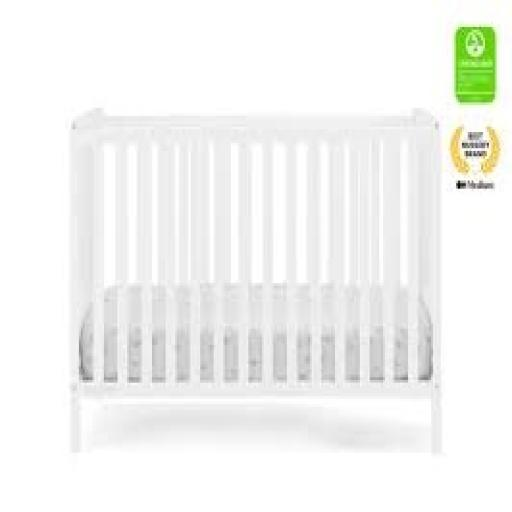crib: (70, 105, 442, 457)
